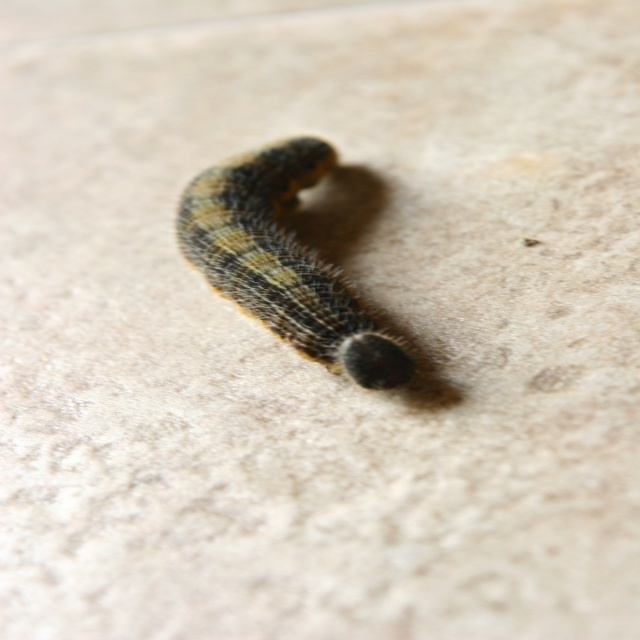Caterpillar: (179, 129, 430, 392)
